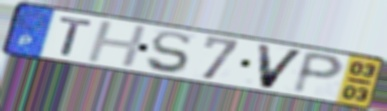7: (201, 34, 241, 83)
H: (84, 20, 150, 69)
P: (289, 49, 347, 97)
S: (144, 30, 193, 75)
T: (57, 15, 96, 58)
V: (255, 42, 308, 91)
